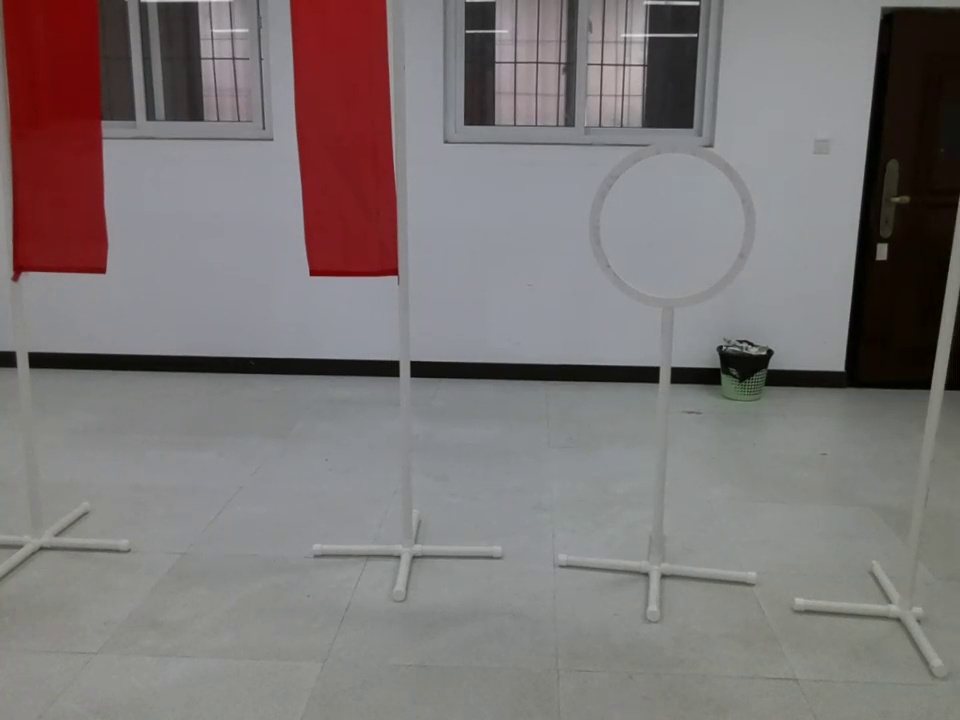qi: (287, 3, 414, 317), (1, 3, 113, 330)
quan: (584, 139, 760, 325)
